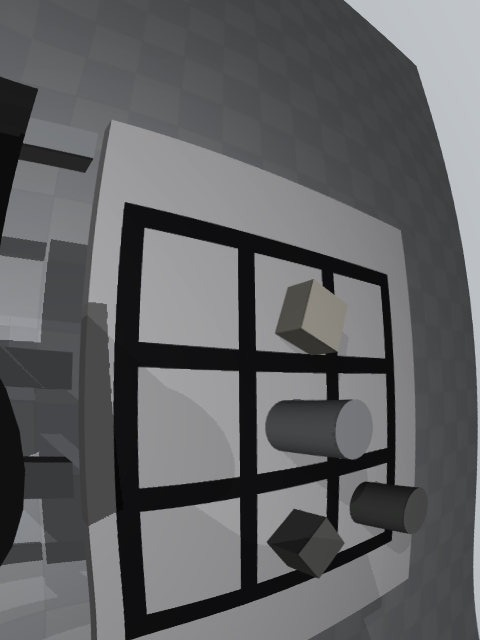can: (265, 399, 373, 460)
cube: (267, 509, 345, 579)
cylinder: (350, 481, 428, 534)
foam: (275, 279, 347, 355)
